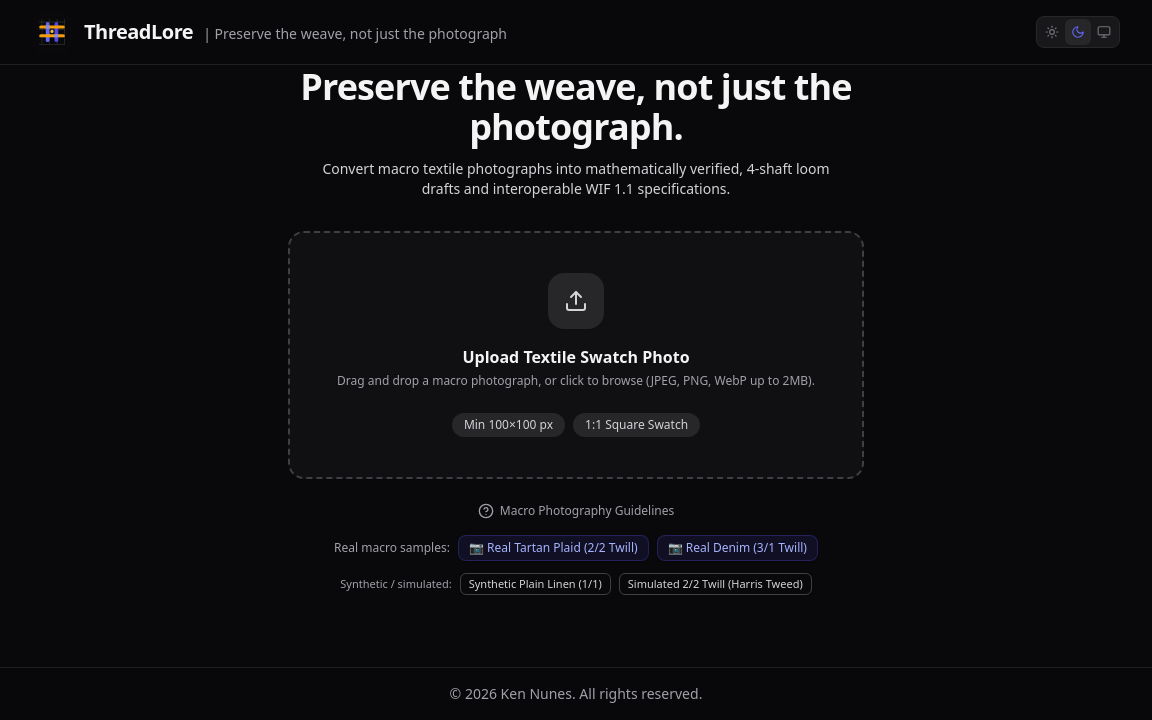
Test: Issue #18 - Optical Spacing Slider Limits Regression Test › should accommodate fine threads (<8 px) and coarse threads (>50 px) in slider min/max bounds
(page scrolled)
Note: Ingest swatch
Click the button "Synthetic Plain Linen (1/1)" at (535, 584), box [460,573,611,595]
(page scrolled)
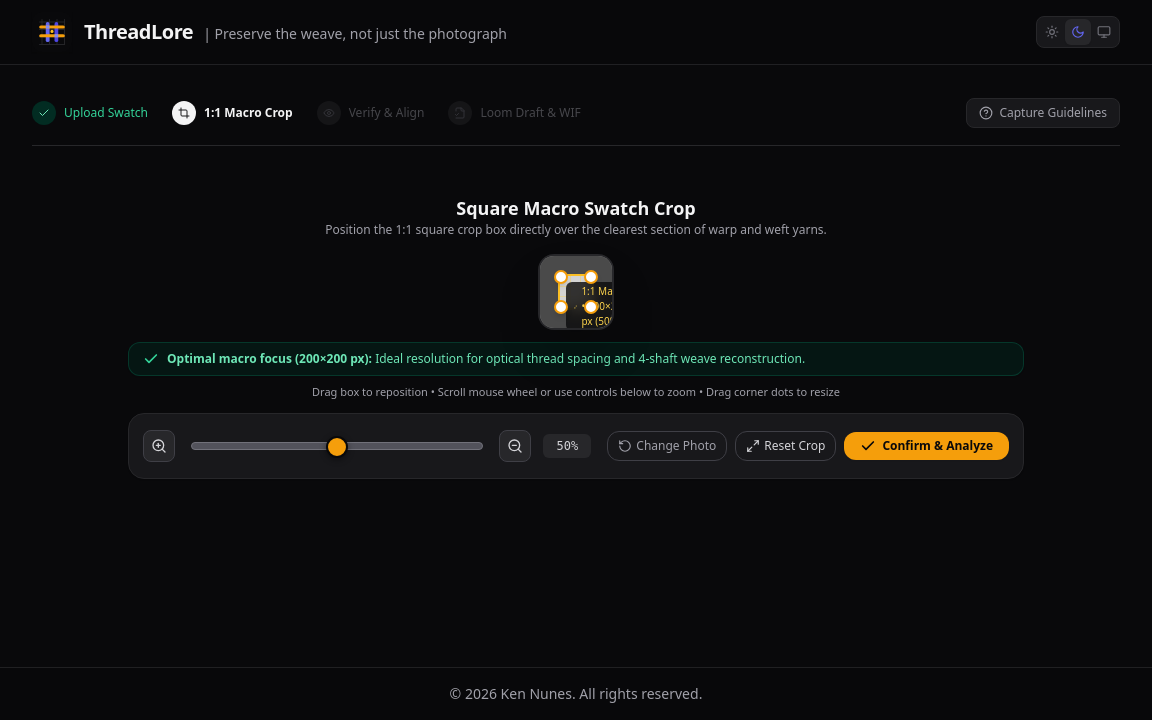
Now the heading "Square Macro Swatch Crop" is shown, box [456,196,696,220]
Click the button "Confirm & Analyze" at (927, 446), box [844,432,1009,460]
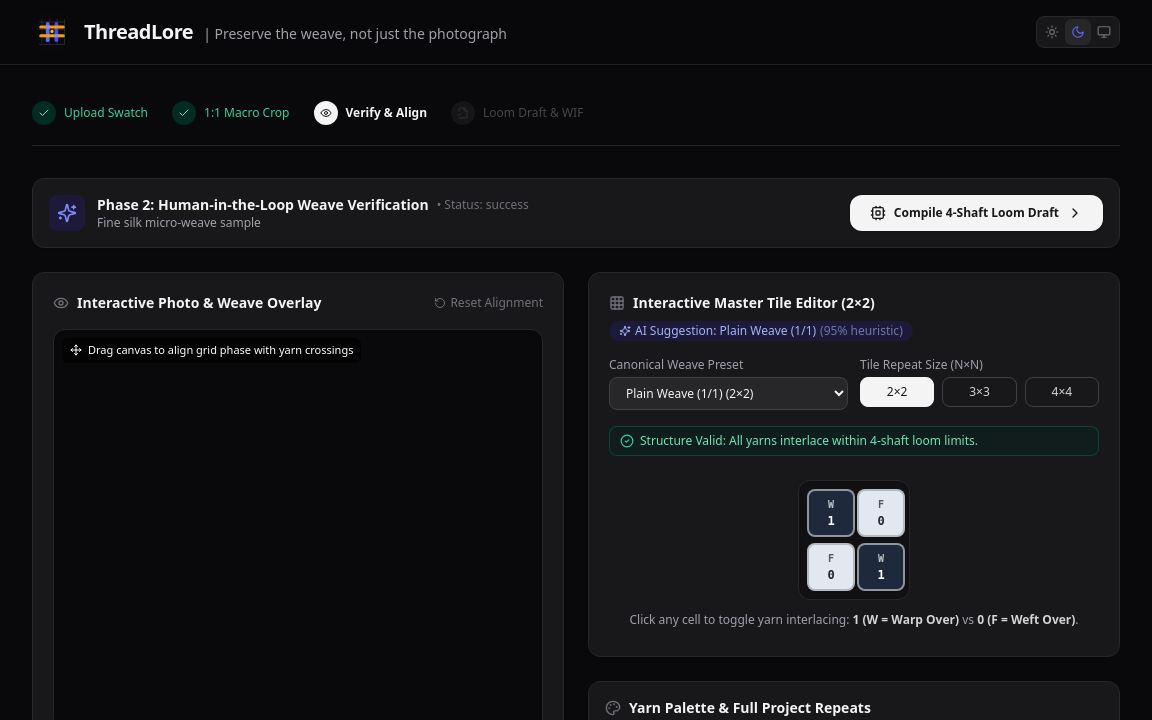
Now the heading "Interactive Photo & Weave Overlay" is shown, box [77,293,321,313]
